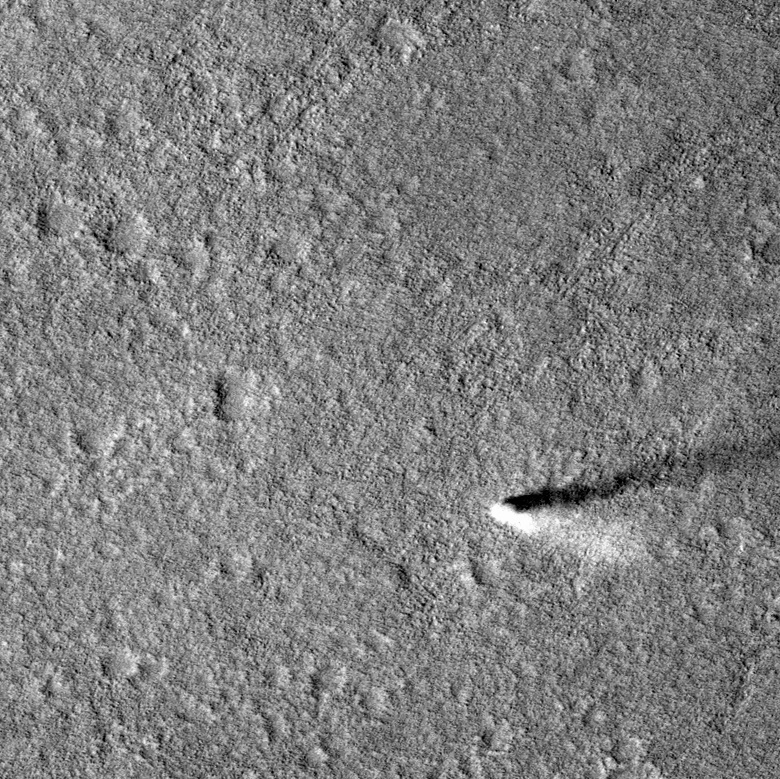dust_devil: (485, 440, 734, 566)
